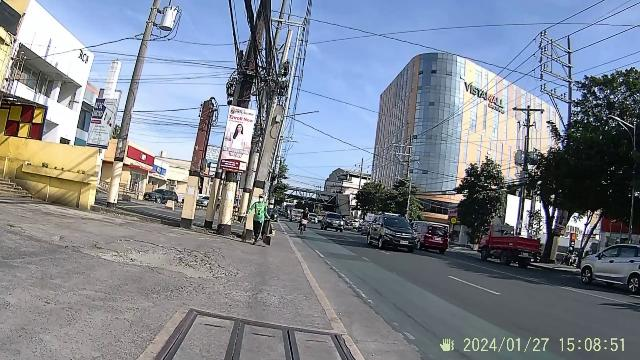utility_post: (100, 0, 178, 207), (212, 31, 284, 239), (536, 26, 578, 132)
